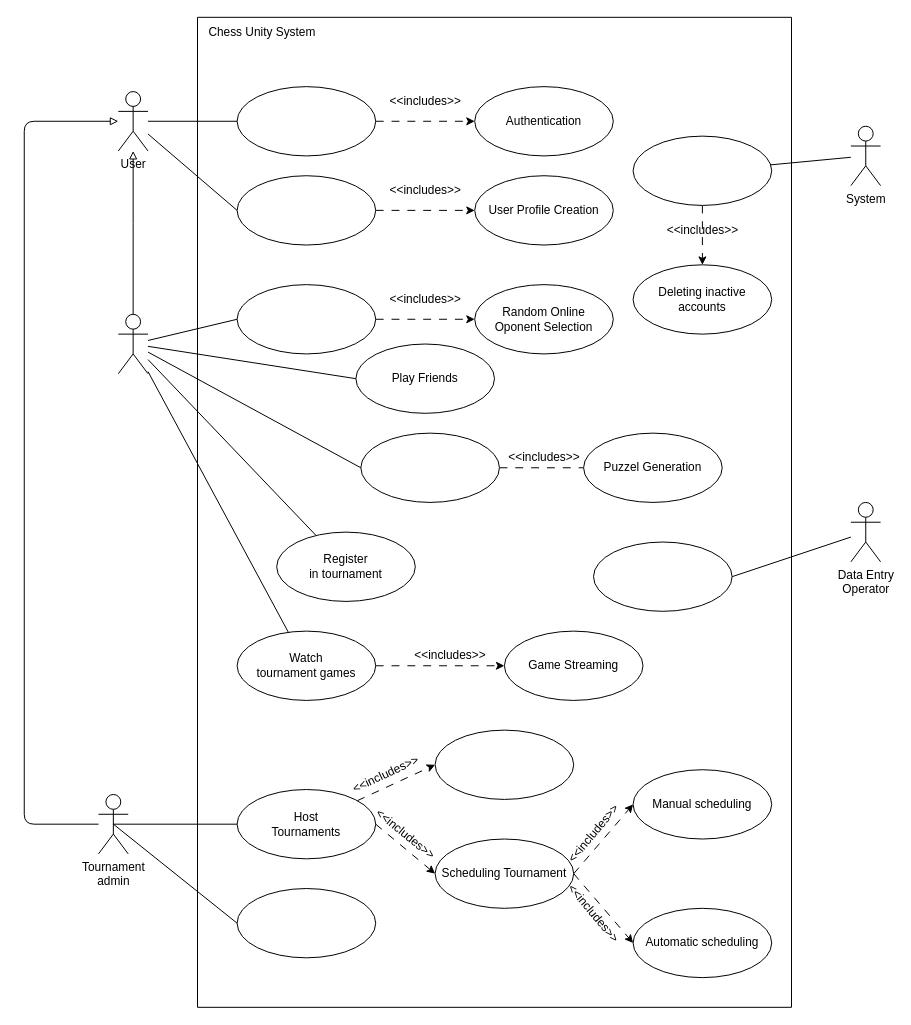
Some shapes in this 911 by 1025 pixel diagram are drawn without their labels. The box of each missing label's shape, as (x1, y1, x2, y2) in pixels:
Import Played Games Database: (593, 541, 732, 611)
Login: (236, 86, 376, 156)
Managaing Tournament: (434, 729, 574, 799)
Manage User Accounts: (632, 135, 772, 205)
Monitoring players: (236, 888, 376, 958)
Play Quick Game: (236, 284, 376, 354)
Player: (117, 313, 148, 374)
Register: (236, 175, 376, 245)
Solve Puzzels: (360, 432, 499, 502)
